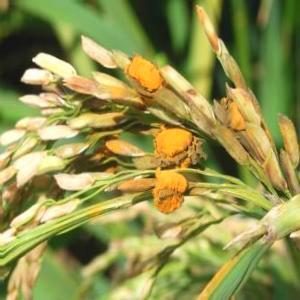Leaf_Scald: (157, 126, 187, 218), (126, 50, 159, 98), (225, 93, 248, 135), (125, 175, 153, 202), (111, 133, 139, 157)
